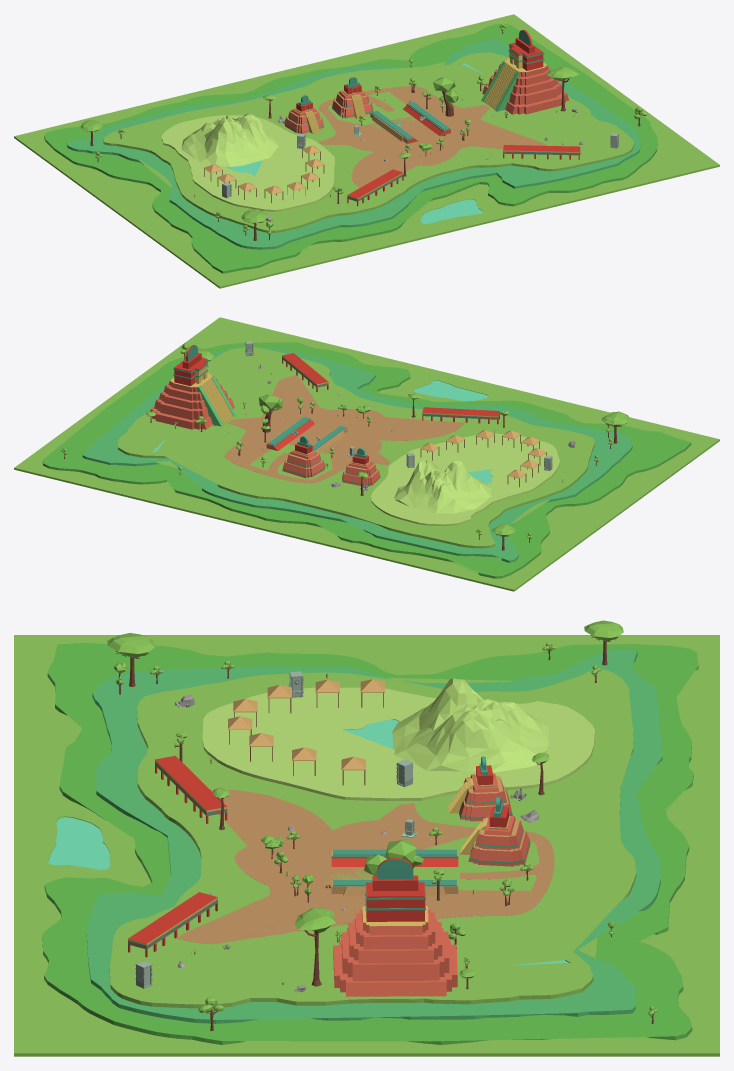
File: Park_1_D6.fbx
The picture shows the model from 3 angles, top to bottom: view 1: azimuth 30°, elevation 25°; view 2: azimuth 150°, elevation 25°; view 3: azimuth 270°, elevation 25°; orthographic projection. The views are drawn at different scales.
Parts seen in each view (by area): view 1: GP_Layer.036, Plane.1298, GP_Layer.018, GP_Layer.031, Plane.1302, GP_Layer.037, Plane.1299, Landscape.005, Plane.1300, Plane.1301, Plane.1296, Plane.1304 (+4 smaller); view 2: GP_Layer.036, Plane.1298, GP_Layer.018, GP_Layer.031, Plane.1302, GP_Layer.037, Plane.1299, Landscape.005, Plane.1300, Plane.1301, Plane.1296, Plane.1303 (+3 smaller); view 3: GP_Layer.036, Plane.1298, GP_Layer.018, GP_Layer.031, GP_Layer.037, Plane.1302, Plane.1299, Landscape.005, Plane.1300, Plane.1296, Plane.1301, Plane.1304 (+8 smaller).
Part boxes in pixels (<box>): GP_Layer.036: <box>103,52,634,232</box>; Plane.1298: <box>14,14,719,288</box>; GP_Layer.018: <box>44,24,657,273</box>; GP_Layer.031: <box>66,39,640,249</box>; Plane.1302: <box>318,86,546,187</box>; GP_Layer.037: <box>161,115,334,211</box>; Plane.1299: <box>481,30,568,114</box>; Landscape.005: <box>181,112,278,166</box>; Plane.1300: <box>332,77,373,118</box>; Plane.1301: <box>284,95,324,133</box>; Plane.1296: <box>420,199,482,223</box>; Plane.1304: <box>503,145,580,159</box>; GP_Layer.036: <box>118,347,594,548</box>; Plane.1298: <box>14,317,719,591</box>; GP_Layer.018: <box>42,342,691,578</box>; GP_Layer.031: <box>82,347,632,562</box>; Plane.1302: <box>224,375,465,483</box>; GP_Layer.037: <box>371,433,559,525</box>; Plane.1299: <box>150,345,236,429</box>; Landscape.005: <box>394,460,491,513</box>; Plane.1300: <box>282,436,325,478</box>; Plane.1301: <box>342,448,380,486</box>; Plane.1296: <box>413,380,488,401</box>; Plane.1303: <box>422,407,499,424</box>; GP_Layer.036: <box>109,669,636,1008</box>; Plane.1298: <box>14,635,719,1056</box>; GP_Layer.018: <box>42,643,698,1044</box>; GP_Layer.031: <box>86,649,662,1023</box>; GP_Layer.037: <box>202,687,595,800</box>; Plane.1302: <box>176,790,554,944</box>; Plane.1299: <box>333,858,457,996</box>; Landscape.005: <box>392,678,548,772</box>; Plane.1300: <box>460,796,530,866</box>; Plane.1296: <box>48,817,110,869</box>; Plane.1301: <box>448,756,512,821</box>; Plane.1304: <box>128,892,217,957</box>.
Bounding box in the file's own units: 29740 × 4244 × 21199.
Materials: 13 (8 with a texture image).
